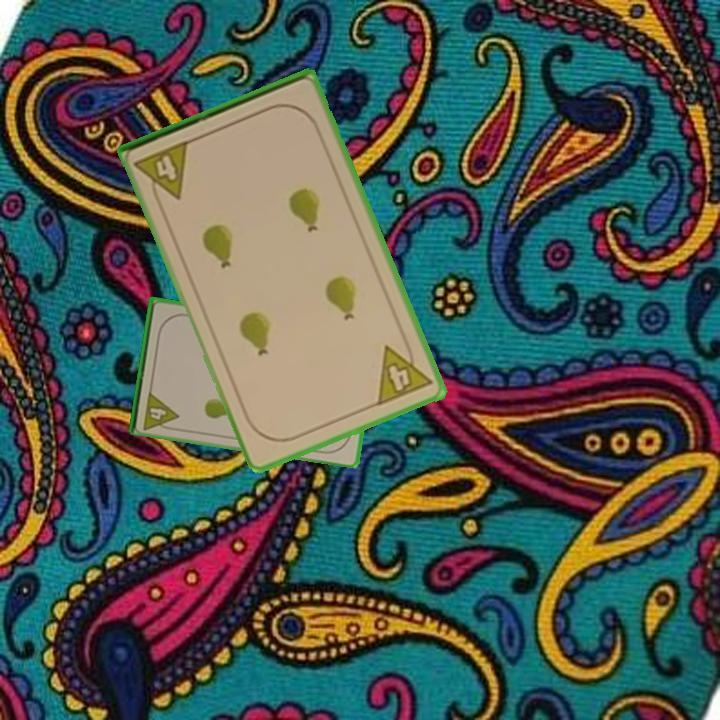4p: (373, 334, 435, 409), (131, 137, 193, 209), (139, 387, 181, 433)
